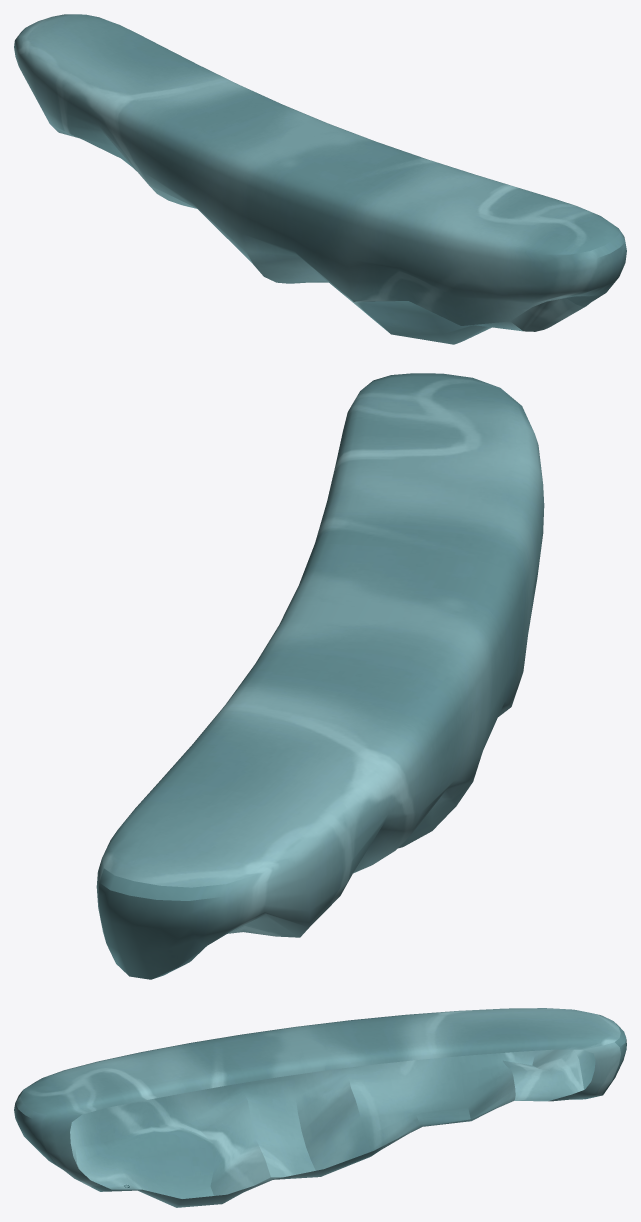
The model's file is Ice_platform_3.fbx.
3 renders of one model, top to bottom at view 1: azimuth 30°, elevation 25°; view 2: azimuth 150°, elevation 25°; view 3: azimuth 270°, elevation 25°, orthographic. The views are drawn at different scales.
Visible parts, largest first — view 1: Ice_Platform_3; view 2: Ice_Platform_3; view 3: Ice_Platform_3.
Part boxes in pixels (box(x1,y1,x2,y2)): Ice_Platform_3: box(14, 14, 626, 344); Ice_Platform_3: box(96, 373, 544, 979); Ice_Platform_3: box(14, 1008, 626, 1207).
Size of the model in its own units: 608 by 357 by 1464.
